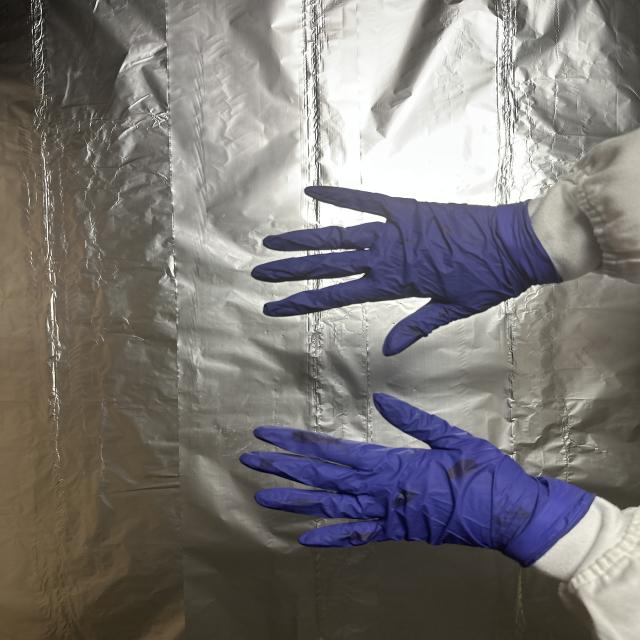gloves_contaminated: (241, 393, 594, 566), (252, 187, 561, 355)
